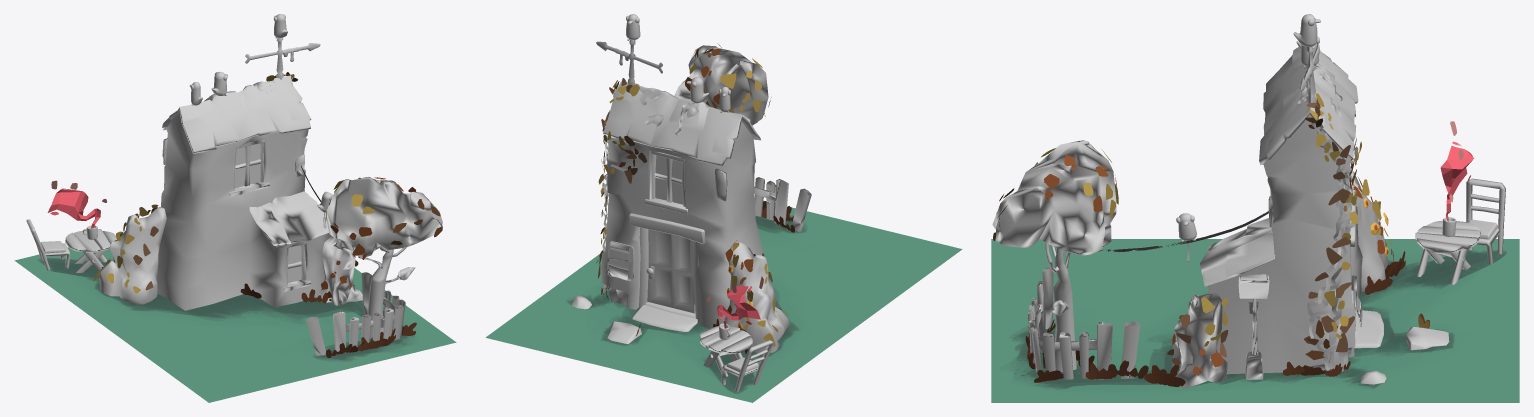
Rendered from dio.fbx.
3 views of the same model, side by side, from view 1: azimuth 30°, elevation 25°; view 2: azimuth 150°, elevation 25°; view 3: azimuth 270°, elevation 25° (orthographic). The views are drawn at different scales.
Parts seen in each view (by area): view 1: polySurface55; view 2: polySurface55; view 3: polySurface55.
Boxes of the visible parts, box(x1,y1,x2,y2) form: polySurface55: box(14, 14, 456, 402); polySurface55: box(485, 14, 962, 402); polySurface55: box(991, 14, 1519, 402).
Bounding box in the file's own units: 8.28 × 8.3 × 11.21.
